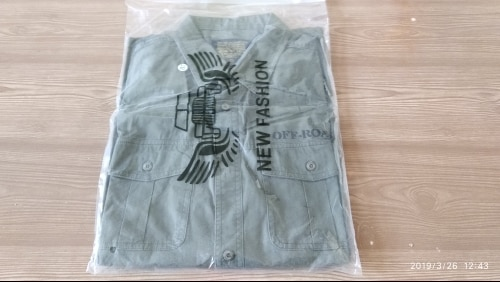shirts: (94, 25, 343, 282)
